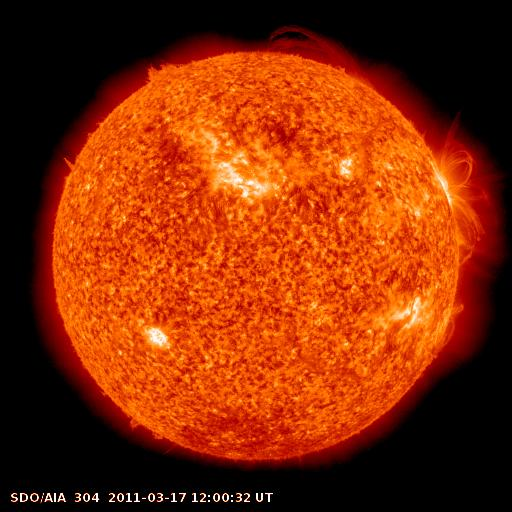prominence: (260, 20, 377, 93), (422, 294, 478, 367), (118, 407, 173, 450), (139, 51, 193, 88), (53, 145, 93, 183)
